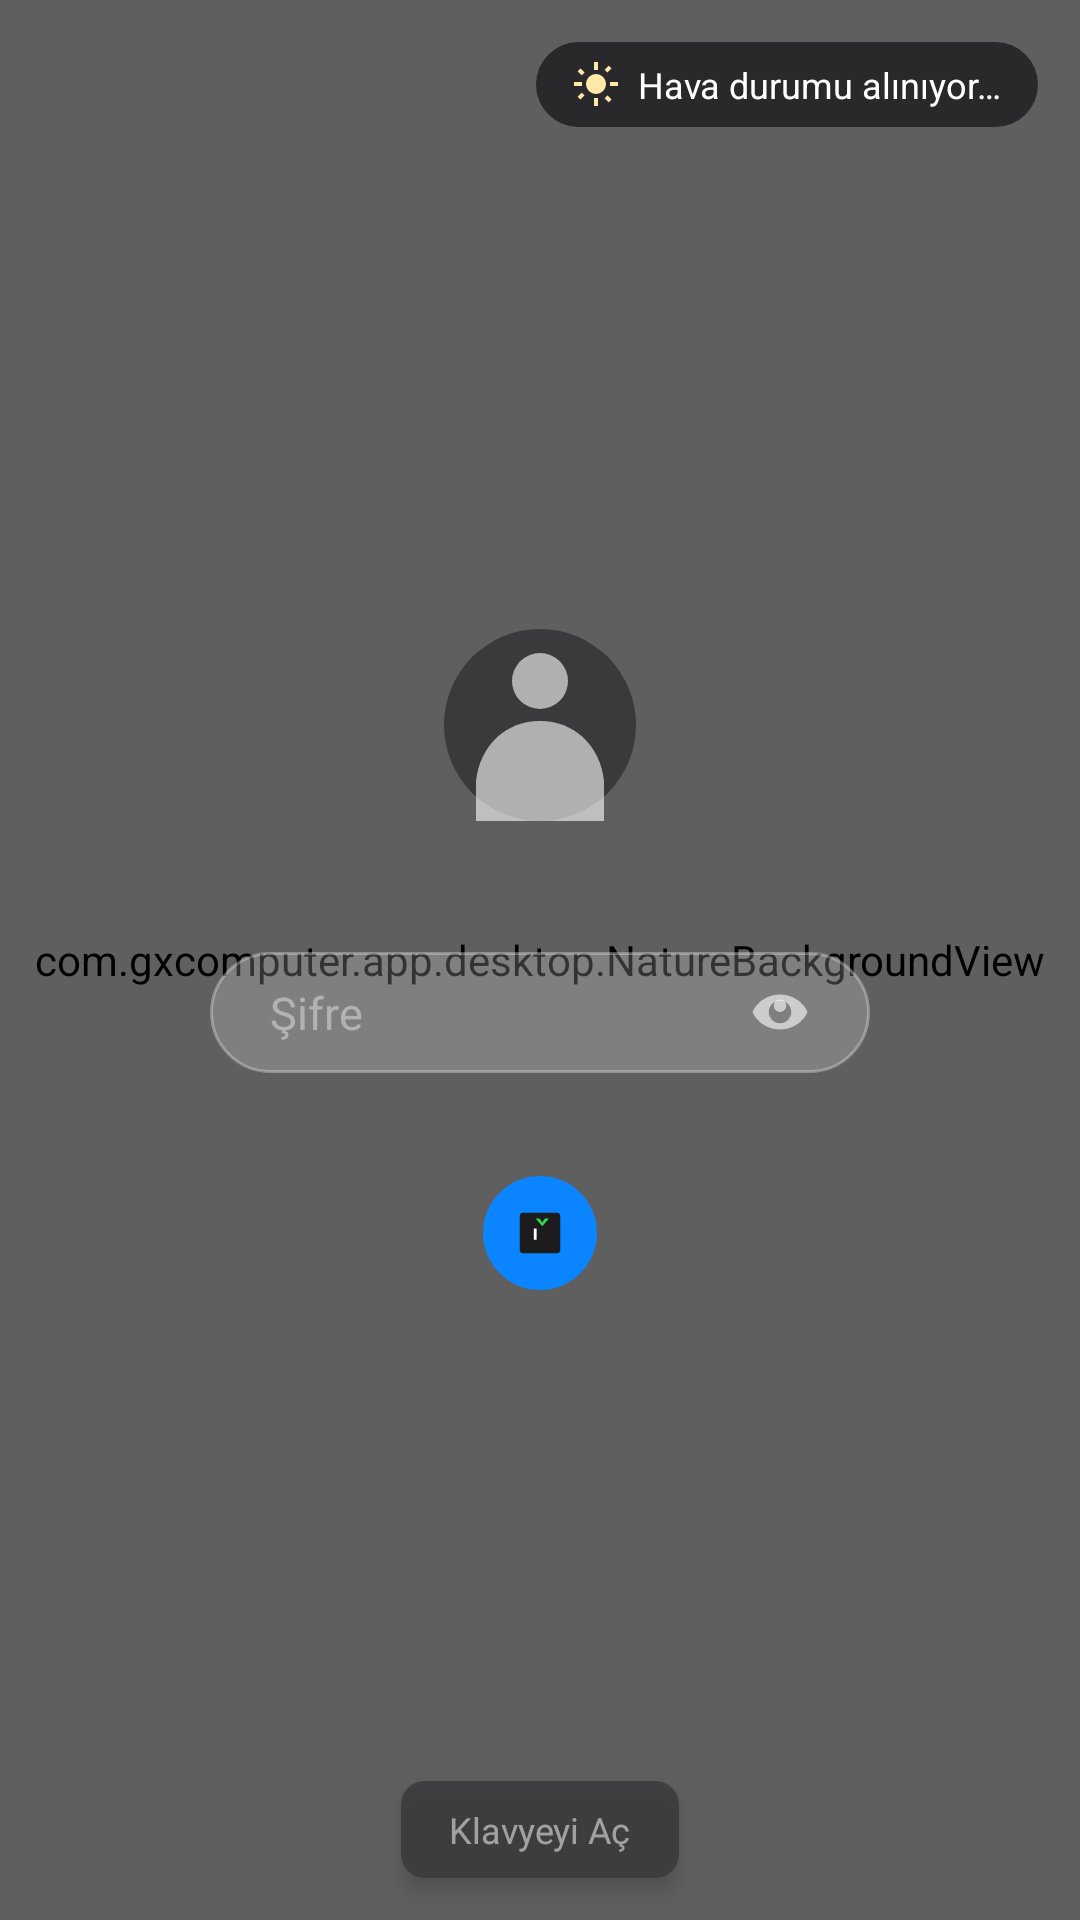

Named icons in this screenshot (1080x1920) and their centers, [x,y]:
eye: [780,1012]
weather sun: [596,84]
